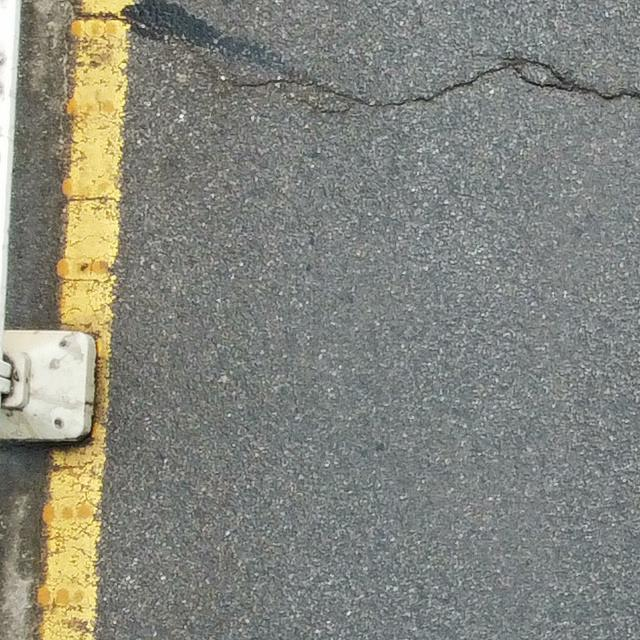TransverseCrack: (76, 11, 640, 116)
